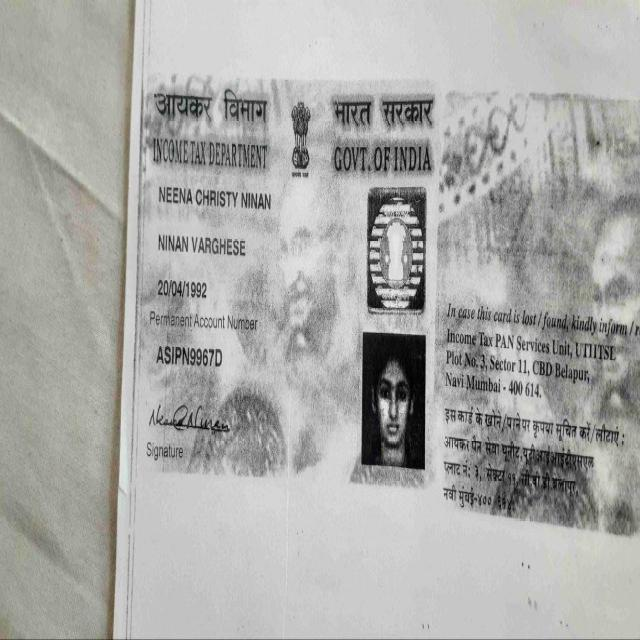pan_card: (136, 80, 438, 494), (437, 94, 640, 538)
